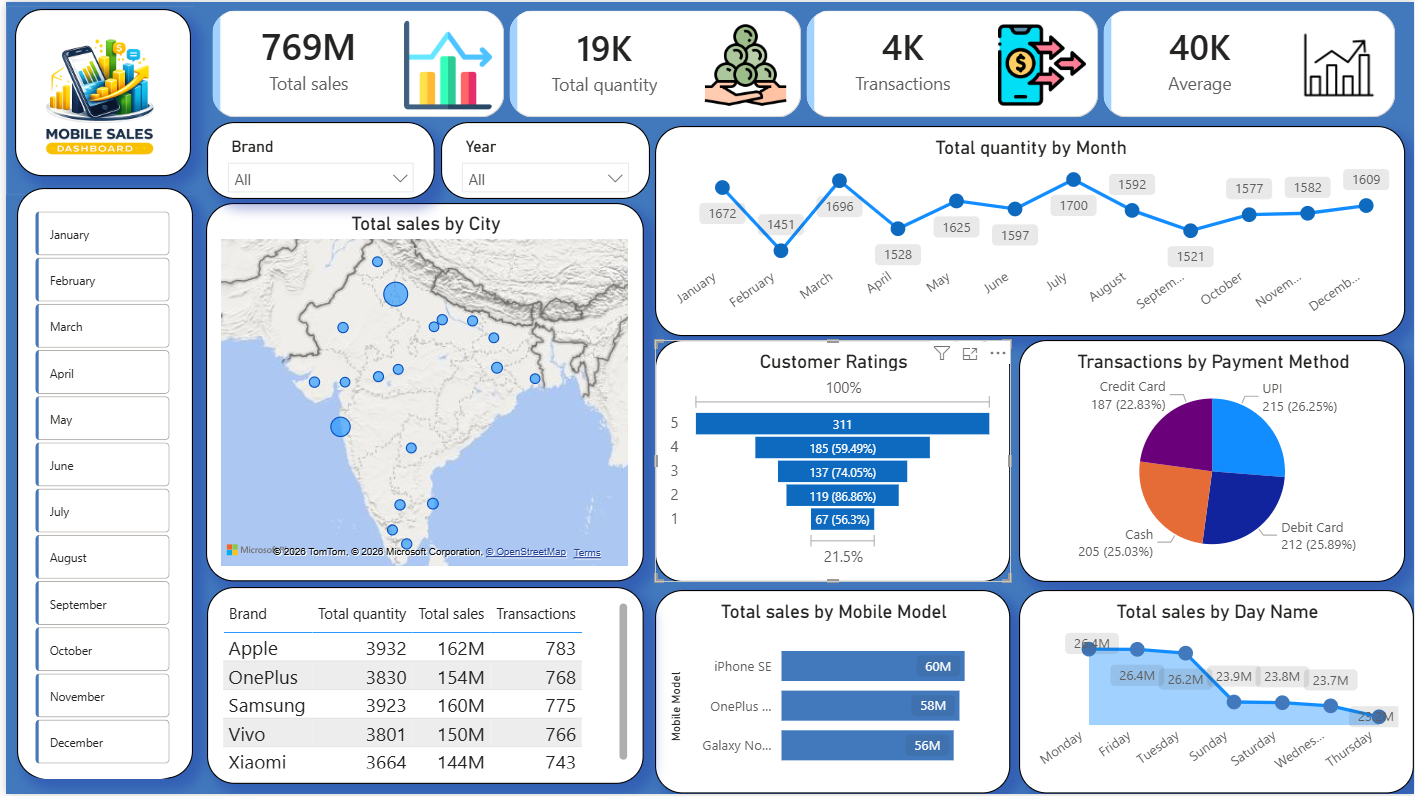

The page's visual inventory and layout, read from the dashboard file:
{"tool":"powerbi","page":{"name":"Page 1","canvas":[1280,720],"ordinal":0},"visuals":[{"type":"shape","box":[7.8,6.8,160.5,151.7],"z":0},{"type":"image","box":[0,0,170.8,179.2],"z":1000},{"type":"shape","box":[9.7,169.2,160.5,536.9],"z":2000},{"type":"advancedSlicerVisual","fields":{"Values":["sales_data.Date.Variation.Date Hierarchy.Month"]},"box":[12.6,176,150.8,530.1],"z":3000},{"type":"cardVisual","fields":{"Data":["sales_data.Total sales","sales_data.Total quantity","sales_data.Transactions","sales_data.Average"]},"box":[181.9,1.9,1090.3,109.9],"z":4000},{"type":"map","fields":{"Category":["sales_data.City"],"Size":["sales_data.Total sales"]},"box":[181.9,182.9,397.8,344.3],"z":5000},{"type":"lineChart","fields":{"Y":["sales_data.Total quantity"],"Category":["sales_data.Date.Variation.Date Hierarchy.Month","sales_data.Date.Variation.Date Hierarchy.Day"]},"box":[590.4,112.8,681.8,190.6],"z":6000},{"type":"clusteredBarChart","fields":{"Category":["sales_data.Mobile Model"],"Y":["sales_data.Total sales"]},"box":[590.4,535,322.9,184.8],"z":7000},{"type":"pieChart","fields":{"Category":["sales_data.Payment Method"],"Y":["sales_data.Transactions"]},"box":[921.1,307.4,351.1,219.8],"z":8000},{"type":"funnel","title":"Customer Ratings","fields":{"Category":["sales_data.Customer Ratings"],"Y":["CountNonNull(sales_data.Customer Ratings)"]},"box":[590.4,307.4,322.9,219.8],"z":9000},{"type":"areaChart","fields":{"Category":["sales_data.Day Name"],"Y":["sales_data.Total sales"]},"box":[921.1,535,358.9,184.8],"z":10000},{"type":"tableEx","fields":{"Values":["sales_data.Brand","sales_data.Total quantity","sales_data.Total sales","sales_data.Transactions"]},"box":[182.9,532,396.8,179],"z":11000},{"type":"slicer","fields":{"Values":["sales_data.Brand"]},"box":[182.7,109.1,207.3,70],"z":12000},{"type":"slicer","fields":{"Values":["sales_data.Date.Variation.Date Hierarchy.Year"]},"box":[395.5,109.1,190,70],"z":12001}]}

Visuals, with their boxes in screenshot pixels (x1, y1, x2, y2), scaled from the page's 1280x720 canvas onto the 1415x796 screenshot:
shape: (x1=9, y1=8, x2=186, y2=175)
image: (x1=0, y1=0, x2=189, y2=198)
shape: (x1=11, y1=187, x2=188, y2=781)
advancedSlicerVisual - sales_data.Date.Variation.Date Hierarchy.Month: (x1=14, y1=195, x2=181, y2=781)
cardVisual - sales_data.Total sales x sales_data.Total quantity: (x1=201, y1=2, x2=1406, y2=124)
map - sales_data.City x sales_data.Total sales: (x1=201, y1=202, x2=641, y2=583)
lineChart - sales_data.Total quantity x sales_data.Date.Variation.Date Hierarchy.Month: (x1=653, y1=125, x2=1406, y2=335)
clusteredBarChart - sales_data.Mobile Model x sales_data.Total sales: (x1=653, y1=591, x2=1010, y2=795)
pieChart - sales_data.Payment Method x sales_data.Transactions: (x1=1018, y1=340, x2=1406, y2=583)
"Customer Ratings" funnel: (x1=653, y1=340, x2=1010, y2=583)
areaChart - sales_data.Day Name x sales_data.Total sales: (x1=1018, y1=591, x2=1414, y2=795)
tableEx - sales_data.Brand x sales_data.Total quantity: (x1=202, y1=588, x2=641, y2=786)
slicer - sales_data.Brand: (x1=202, y1=121, x2=431, y2=198)
slicer - sales_data.Date.Variation.Date Hierarchy.Year: (x1=437, y1=121, x2=647, y2=198)
